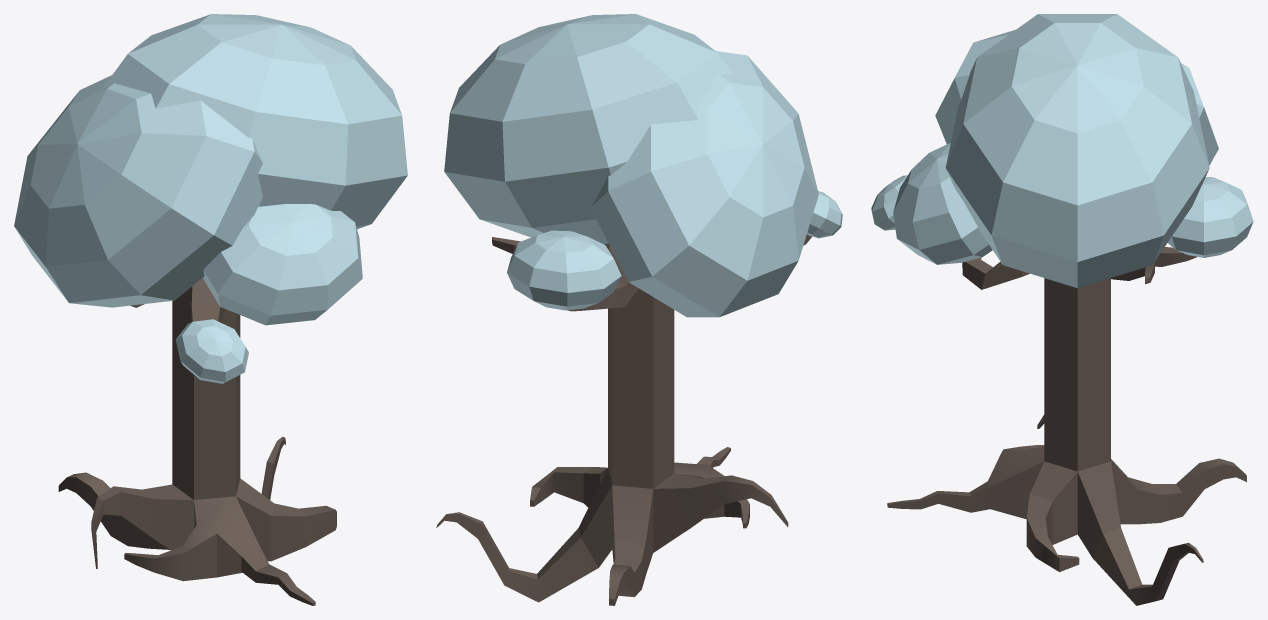
The model's file is Boom.fbx.
3 renders of one model, left to right at view 1: azimuth 30°, elevation 25°; view 2: azimuth 150°, elevation 25°; view 3: azimuth 270°, elevation 25°, orthographic. The views are drawn at different scales.
Visible parts, largest first — view 1: polySurface342; view 2: polySurface342; view 3: polySurface342.
Part boxes in pixels (box(x1,y1,x2,y2)): polySurface342: box(14, 14, 407, 605); polySurface342: box(436, 14, 842, 605); polySurface342: box(871, 14, 1253, 605).
Bounding box in the file's own units: 10 × 15.56 × 9.81.
